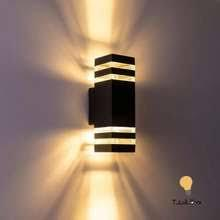Lamp: (83, 48, 147, 172)
